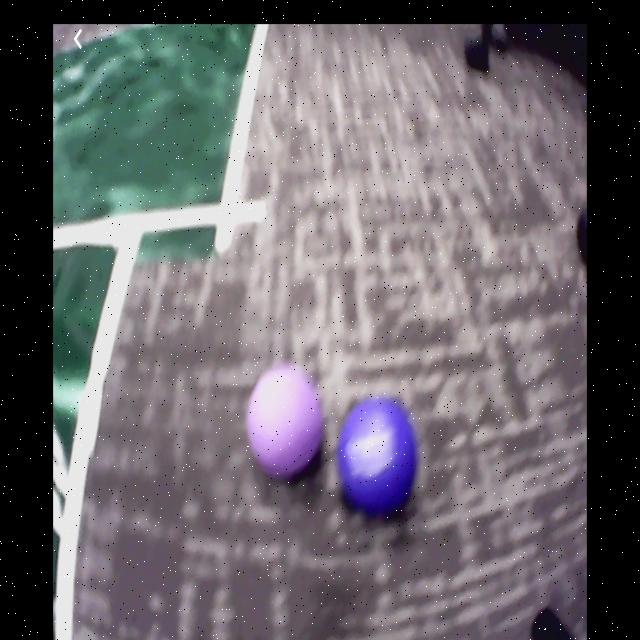ball: (250, 369, 326, 479), (340, 402, 418, 508)
